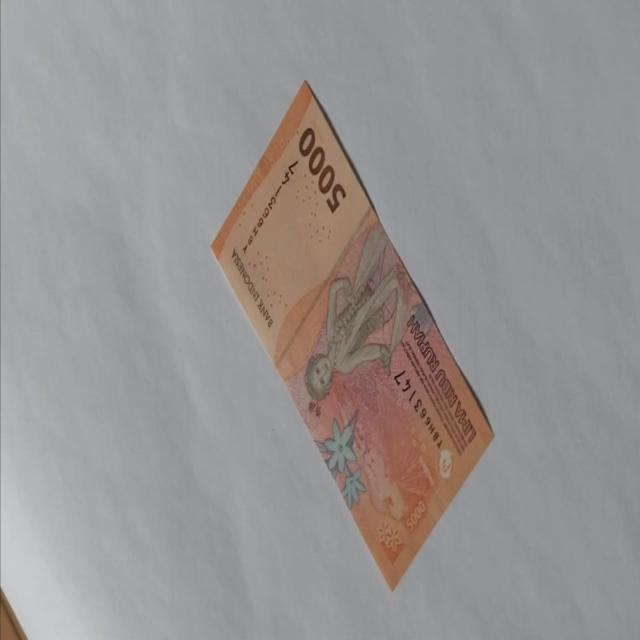lima ribu rupiah: (210, 78, 495, 592)
